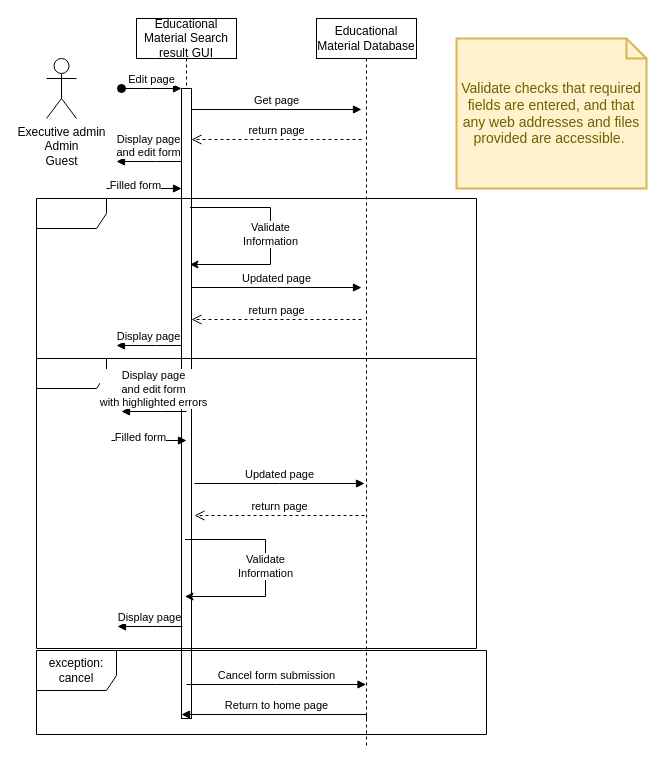
Some shapes in this 664 by 766 pixel diagram are drawn without their labels. Each missing label, with the box of its shape:
Base case: (36, 198, 476, 358)
validation error: (36, 358, 476, 648)
